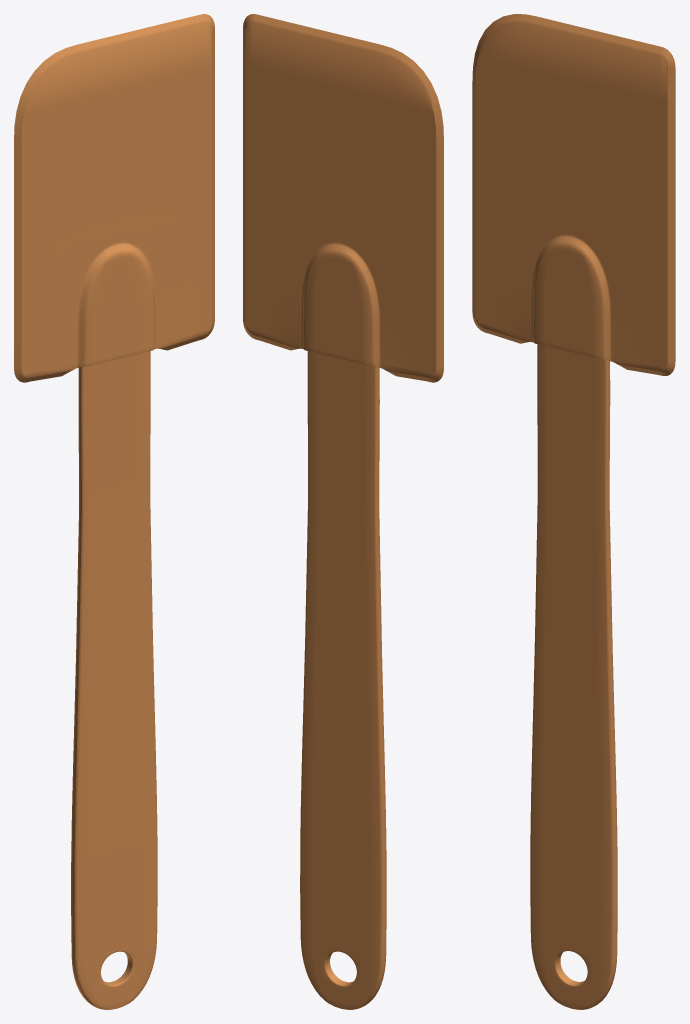
Rendered from Scraper_Spatula.fbx.
3 views of the same model, side by side, from view 1: azimuth 30°, elevation 25°; view 2: azimuth 150°, elevation 25°; view 3: azimuth 330°, elevation 25° (orthographic).
Parts seen in each view (by area): view 1: scraper spatula; view 2: scraper spatula; view 3: scraper spatula.
Boxes of the visible parts, bbox=[...] form: scraper spatula: bbox=[14, 14, 214, 1009]; scraper spatula: bbox=[243, 14, 443, 1009]; scraper spatula: bbox=[472, 14, 675, 1009].
Size of the model in its own units: 130 by 602 by 11.96.
